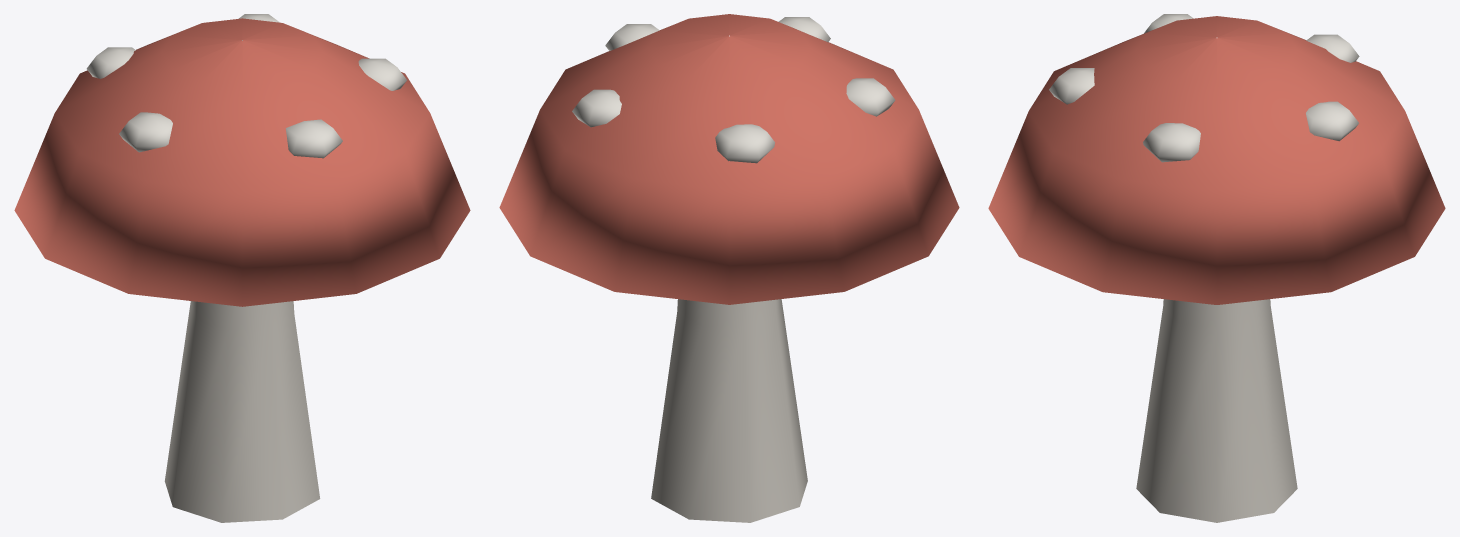
The model's file is mushroom.glb.
The picture shows the model from 3 angles, left to right: view 1: azimuth 30°, elevation 25°; view 2: azimuth 150°, elevation 25°; view 3: azimuth 270°, elevation 25°; orthographic projection.
Visible parts, largest first — view 1: mushroom; view 2: mushroom; view 3: mushroom.
Boxes of the visible parts, <box> form: mushroom: <box>14,14,470,522</box>; mushroom: <box>499,14,959,522</box>; mushroom: <box>988,14,1445,522</box>.
Bounding box in the file's own units: 0.68 × 0.74 × 0.68.
